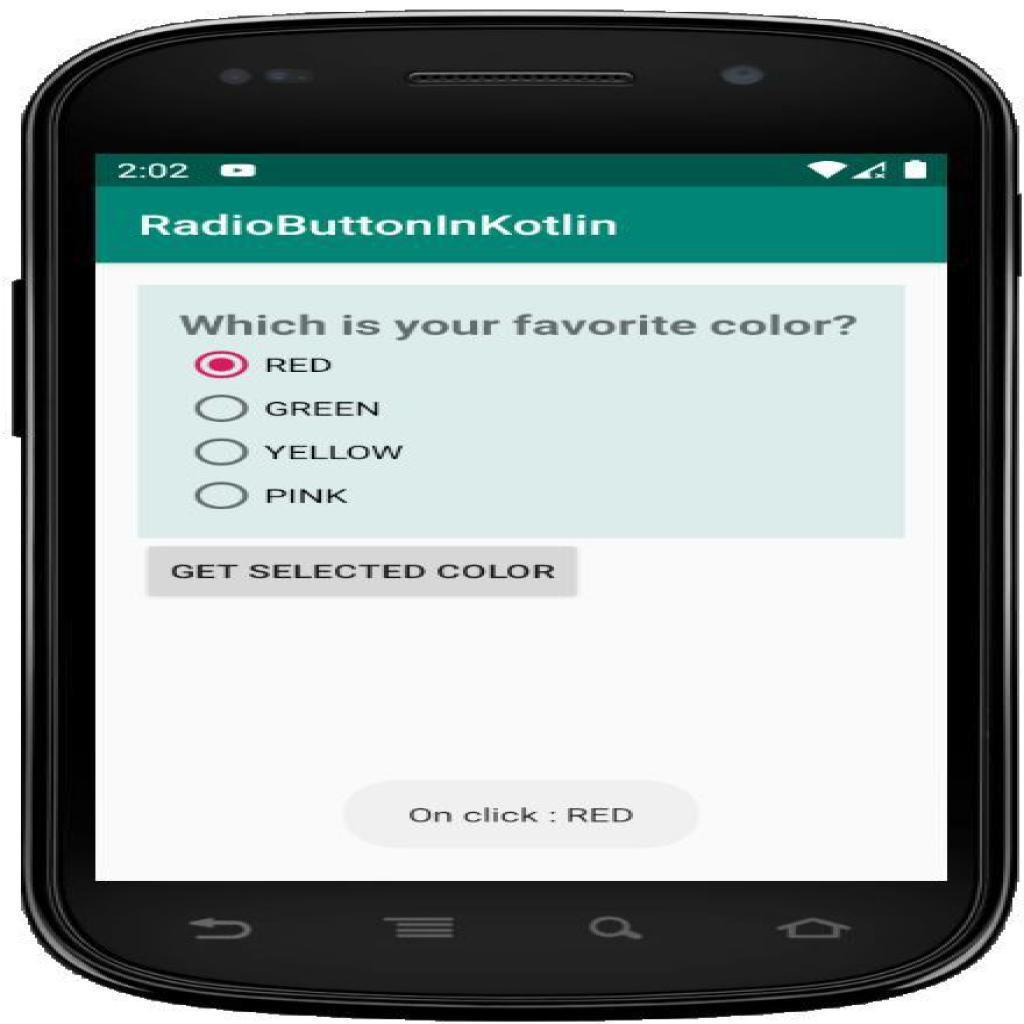button: (147, 545, 580, 602), (341, 780, 703, 847)
radio: (194, 349, 252, 382), (196, 393, 254, 425), (194, 436, 251, 467), (195, 481, 253, 511)
